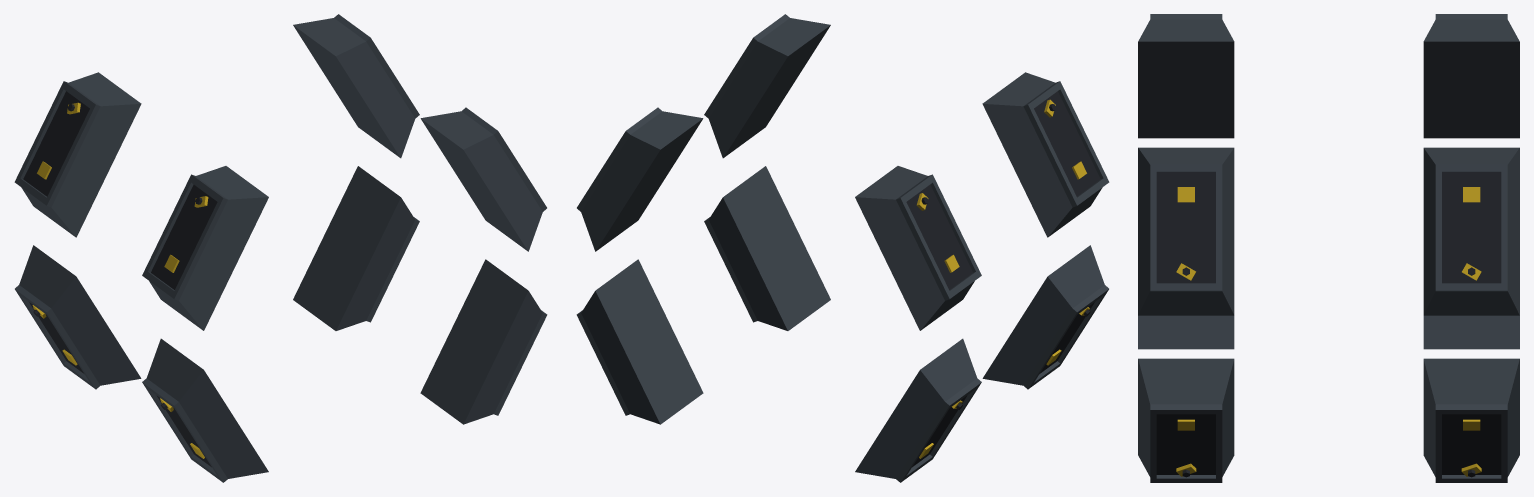
File: b12_dampers.obj
3 views of the same model, side by side, from view 1: azimuth 30°, elevation 25°; view 2: azimuth 150°, elevation 25°; view 3: azimuth 270°, elevation 25° (orthographic). The views are drawn at different scales.
Visible parts, largest first — view 1: b12_dampers; view 2: b12_dampers; view 3: b12_dampers.
Part boxes in pixels (x1,y1,x2,y2): b12_dampers: [14, 14, 547, 482]; b12_dampers: [576, 14, 1109, 482]; b12_dampers: [1138, 14, 1519, 482].
Bounding box in the file's own units: 2.8 × 2.05 × 2.22.
